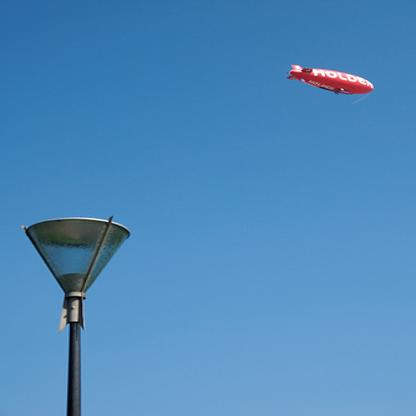Airship: (284, 60, 381, 107)
